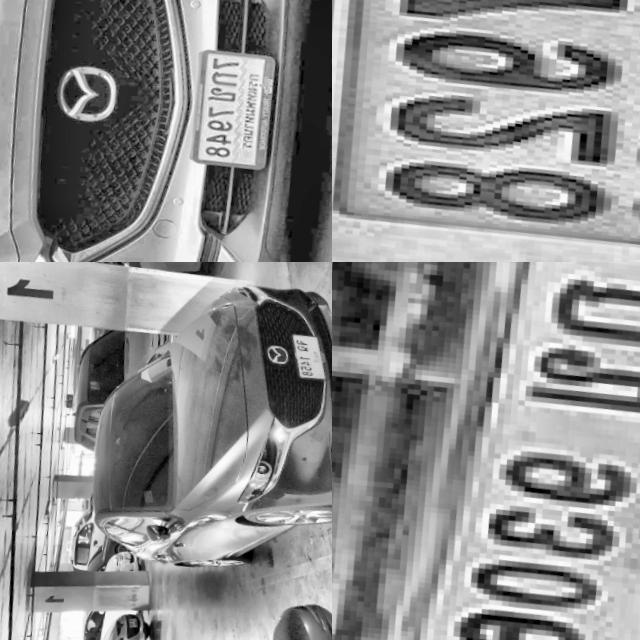license-plate: (341, 262, 640, 640), (332, 0, 640, 262), (176, 49, 278, 178), (278, 331, 331, 386)
